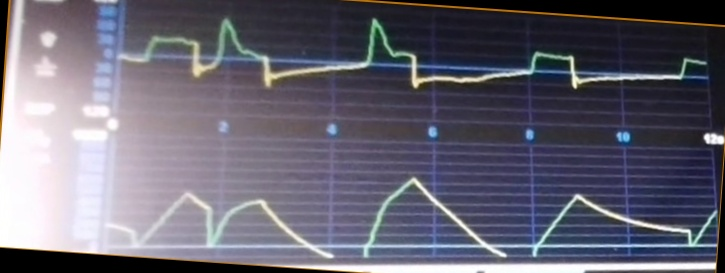Double_Triggering Flow: (126, 14, 706, 115)
Double_Triggering Volume: (112, 172, 714, 257)
